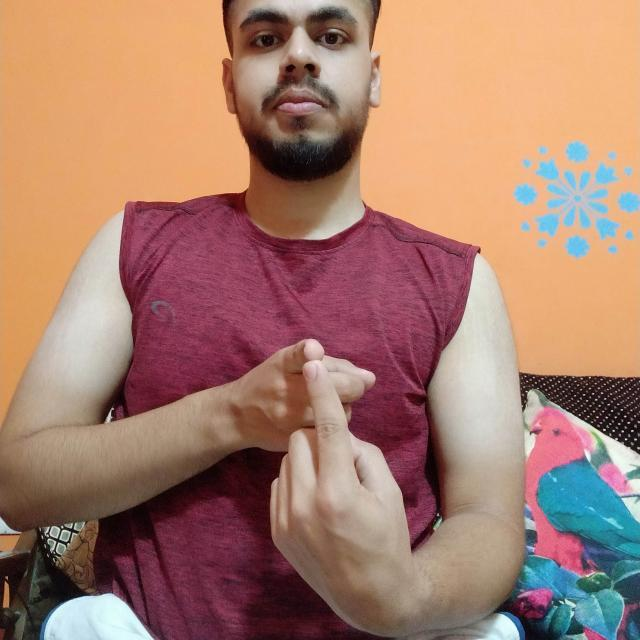I: (219, 315, 451, 640)
